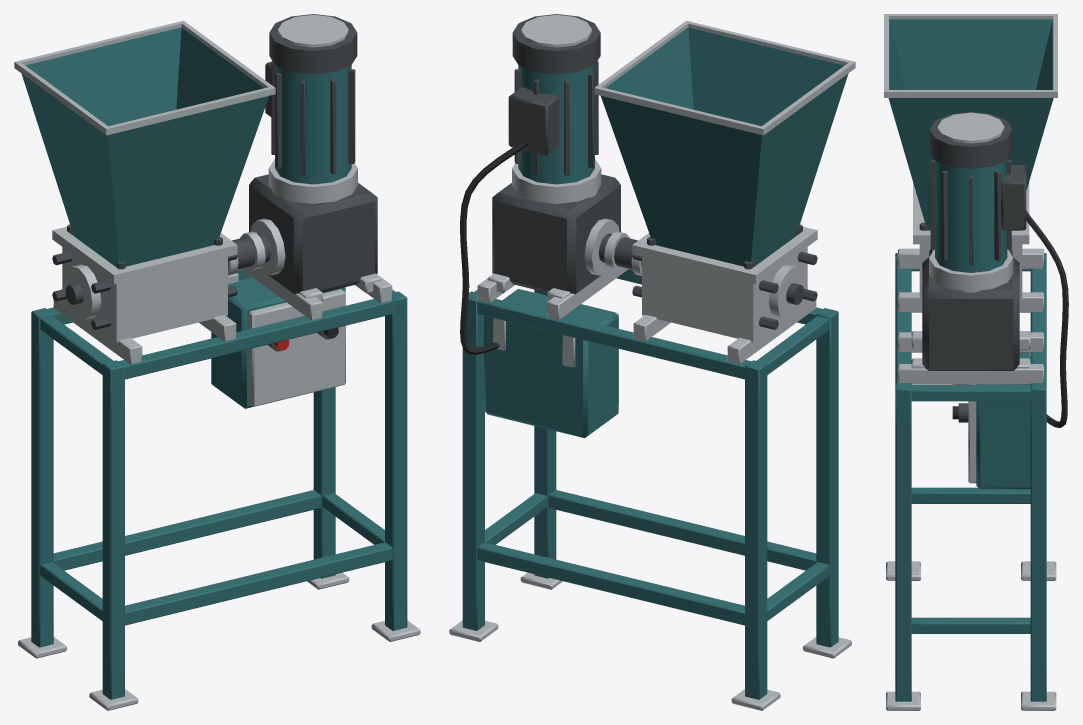
File: A-NEW-20261026-PLASTIC-SHREDDER-001_LOD2_R4.glb
3 views of the same model, side by side, from view 1: azimuth 30°, elevation 25°; view 2: azimuth 150°, elevation 25°; view 3: azimuth 270°, elevation 25° (orthographic). The views are drawn at different scales.
Parts seen in each view (by area): view 1: open tapered hopper, gear reducer housing, hollow cutter housing, stand leg, stand leg.002, stand leg.001, enclosure front door, vertical motor body, long frame rail, front top frame, long frame rail.001, rolled hopper lip (+17 smaller); view 2: open tapered hopper, electrical enclosure, gear reducer housing, hollow cutter housing, stand leg.001, stand leg, stand leg.003, long frame rail.001, long frame rail.002, long frame rail, vertical motor body, rolled hopper lip (+16 smaller); view 3: open tapered hopper, gear reducer housing, vertical motor body, stand leg.002, stand leg.003, electrical enclosure, rolled hopper lip, rounded motor end cover, mounted support crossbar.003, short frame tie.001, short frame tie.003, short frame tie (+22 smaller).
Part boxes in pixels (x1=…): open tapered hopper: x1=21, y1=27, x2=268, y2=267; gear reducer housing: x1=249, y1=174, x2=377, y2=294; hollow cutter housing: x1=62, y1=247, x2=227, y2=342; stand leg: x1=102, y1=360, x2=124, y2=699; stand leg.002: x1=385, y1=291, x2=407, y2=630; stand leg.001: x1=31, y1=308, x2=53, y2=647; enclosure front door: x1=248, y1=289, x2=345, y2=406; vertical motor body: x1=275, y1=65, x2=351, y2=184; long frame rail: x1=103, y1=542, x2=392, y2=627; front top frame: x1=103, y1=299, x2=392, y2=381; long frame rail.001: x1=31, y1=490, x2=321, y2=575; rolled hopper lip: x1=14, y1=20, x2=275, y2=135; open tapered hopper: x1=601, y1=27, x2=848, y2=267; electrical enclosure: x1=484, y1=289, x2=618, y2=437; gear reducer housing: x1=492, y1=174, x2=620, y2=294; hollow cutter housing: x1=642, y1=247, x2=807, y2=342; stand leg.001: x1=745, y1=360, x2=767, y2=699; stand leg: x1=816, y1=308, x2=838, y2=647; stand leg.003: x1=462, y1=291, x2=484, y2=630; long frame rail.001: x1=477, y1=542, x2=762, y2=627; long frame rail.002: x1=477, y1=299, x2=766, y2=381; long frame rail: x1=548, y1=490, x2=837, y2=575; vertical motor body: x1=518, y1=65, x2=594, y2=184; rolled hopper lip: x1=594, y1=20, x2=855, y2=135; open tapered hopper: x1=888, y1=19, x2=1053, y2=230; gear reducer housing: x1=922, y1=257, x2=1019, y2=370; vertical motor body: x1=935, y1=160, x2=1007, y2=272; stand leg.002: x1=895, y1=383, x2=911, y2=701; stand leg.003: x1=1030, y1=383, x2=1046, y2=701; electrical enclosure: x1=976, y1=352, x2=1031, y2=489; rolled hopper lip: x1=884, y1=14, x2=1057, y2=97; rounded motor end cover: x1=929, y1=112, x2=1012, y2=168; mounted support crossbar.003: x1=898, y1=364, x2=1043, y2=384; short frame tie.001: x1=911, y1=617, x2=1030, y2=633; short frame tie.003: x1=911, y1=385, x2=1030, y2=401; short frame tie: x1=911, y1=487, x2=1030, y2=503.
Bounding box in the file's own units: 0.6385 × 1.13 × 0.342.
